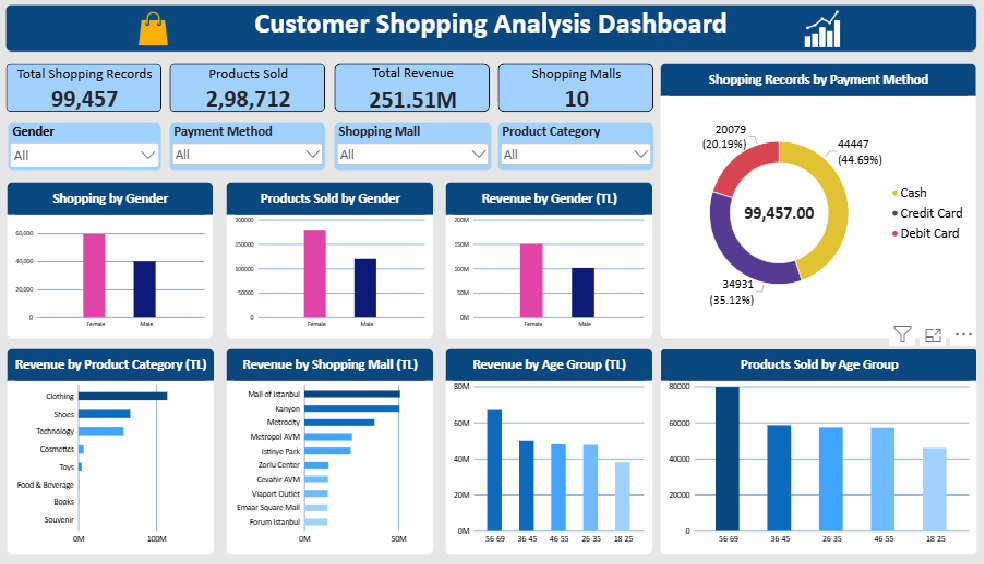

The dashboard page shown, as its layout file describes it:
{"tool":"powerbi","page":{"name":"CDA Overview","canvas":[1920,1080],"ordinal":0},"visuals":[{"type":"cardVisual","fields":{"Data":["CountNonNull(project_customer_segmentation customer.invoice_no)"]},"box":[12.5,126.9,305,95],"z":0},{"type":"cardVisual","fields":{"Data":["Sum(project_customer_segmentation customer.quantity)"]},"box":[332.5,126.9,305,95],"z":1000},{"type":"cardVisual","fields":{"Data":["customer.Total Revenue"]},"box":[652.5,126.9,305,95],"z":2000},{"type":"cardVisual","fields":{"Data":["Count(customer.shopping_mall)"]},"box":[972.5,126.9,305,95],"z":3000},{"type":"slicer","fields":{"Values":["customer.gender"]},"box":[17.5,241.2,300,92.5],"z":4000},{"type":"slicer","fields":{"Values":["customer.shopping_mall"]},"box":[652.5,241.2,307.5,92.5],"z":5000},{"type":"slicer","fields":{"Values":["customer.category"]},"box":[972.5,241.2,305,92.5],"z":6000},{"type":"slicer","fields":{"Values":["customer.payment_method"]},"box":[332.5,241.2,305,92.5],"z":7000},{"type":"clusteredColumnChart","title":"Shopping by Gender","fields":{"Category":["customer.gender"],"Y":["CountNonNull(customer.invoice_no)"]},"box":[15,352.5,402.5,297.5],"z":8000},{"type":"columnChart","title":"Products Sold by Gender","fields":{"Category":["customer.gender"],"Y":["Sum(customer.quantity)"]},"box":[442.5,352.5,405,297.5],"z":9000},{"type":"clusteredColumnChart","title":"Revenue by Gender (TL)","fields":{"Category":["customer.gender"],"Y":["customer.Total Revenue"]},"box":[870,352.8,405,297.5],"z":10000},{"type":"clusteredBarChart","title":"Revenue by Product Category (TL)","fields":{"Category":["customer.category"],"Y":["customer.Total Revenue"]},"box":[15,667.5,405,392.5],"z":11000},{"type":"donutChart","title":"Shopping Records by Payment Method","fields":{"Category":["customer.payment_method"],"Y":["CountNonNull(customer.invoice_no)"]},"box":[1288.3,127.6,616.5,523],"z":12000},{"type":"clusteredBarChart","title":"Revenue by Shopping Mall (TL)","fields":{"Category":["customer.shopping_mall"],"Y":["customer.Total Revenue"]},"box":[442.5,667.5,405,392.5],"z":13000},{"type":"textbox","box":[12.5,17.5,1892.5,90],"z":14000},{"type":"clusteredColumnChart","title":"Revenue by Age Group (TL)","fields":{"Category":["customer.Age Group"],"Y":["customer.Total Revenue"]},"box":[870,667.5,405,392.5],"z":15000},{"type":"clusteredColumnChart","title":"Products Sold by Age Group","fields":{"Category":["customer.Age Group"],"Y":["Sum(customer.quantity)"]},"box":[1287.5,667.5,620,392.5],"z":16000},{"type":"image","box":[248.7,29.8,104.2,63.8],"z":17000},{"type":"image","box":[1569,25.5,72.3,72.3],"z":18000}]}

Visuals, with their boxes in screenshot pixels (x1, y1, x2, y2), scaled from the page's 1920x1080 canvas onto the 984x564 screenshot:
cardVisual - CountNonNull(project_customer_segmentation customer.invoice_no): x1=6 y1=66 x2=163 y2=116
cardVisual - Sum(project_customer_segmentation customer.quantity): x1=170 y1=66 x2=327 y2=116
cardVisual - customer.Total Revenue: x1=334 y1=66 x2=491 y2=116
cardVisual - Count(customer.shopping_mall): x1=498 y1=66 x2=655 y2=116
slicer - customer.gender: x1=9 y1=126 x2=163 y2=174
slicer - customer.shopping_mall: x1=334 y1=126 x2=492 y2=174
slicer - customer.category: x1=498 y1=126 x2=655 y2=174
slicer - customer.payment_method: x1=170 y1=126 x2=327 y2=174
"Shopping by Gender" clusteredColumnChart: x1=8 y1=184 x2=214 y2=339
"Products Sold by Gender" columnChart: x1=227 y1=184 x2=434 y2=339
"Revenue by Gender (TL)" clusteredColumnChart: x1=446 y1=184 x2=653 y2=340
"Revenue by Product Category (TL)" clusteredBarChart: x1=8 y1=349 x2=215 y2=554
"Shopping Records by Payment Method" donutChart: x1=660 y1=67 x2=976 y2=340
"Revenue by Shopping Mall (TL)" clusteredBarChart: x1=227 y1=349 x2=434 y2=554
textbox: x1=6 y1=9 x2=976 y2=56
"Revenue by Age Group (TL)" clusteredColumnChart: x1=446 y1=349 x2=653 y2=554
"Products Sold by Age Group" clusteredColumnChart: x1=660 y1=349 x2=978 y2=554
image: x1=127 y1=16 x2=181 y2=49
image: x1=804 y1=13 x2=841 y2=51
